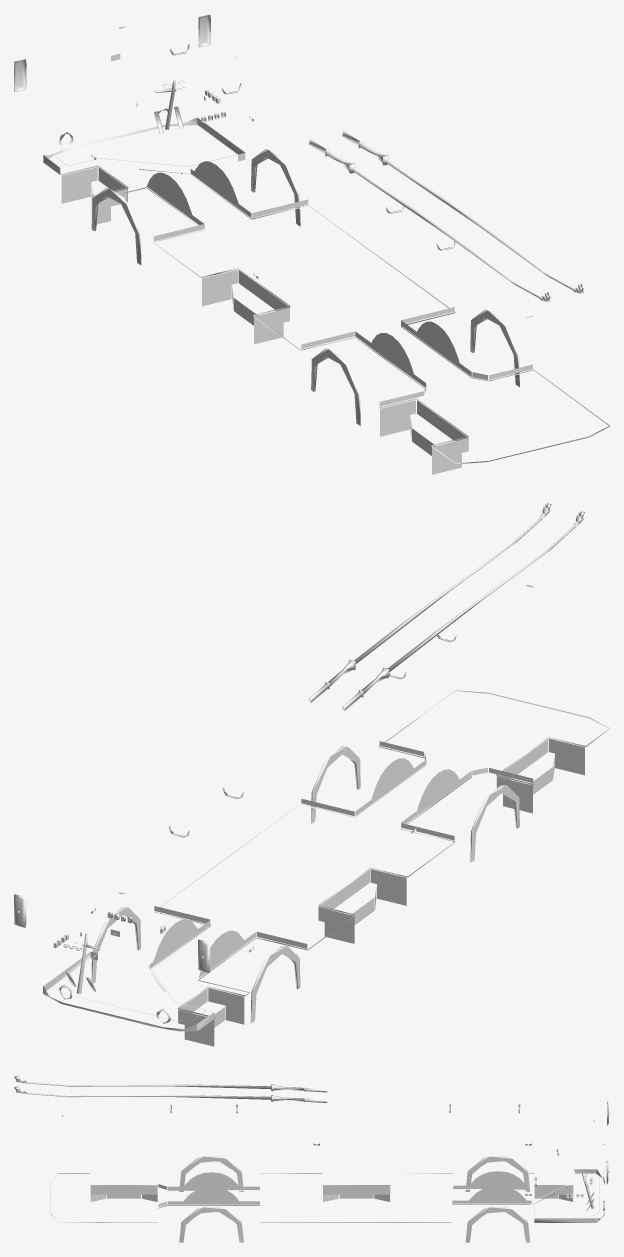
3 renders of one model, top to bottom at view 1: azimuth 30°, elevation 25°; view 2: azimuth 150°, elevation 25°; view 3: azimuth 270°, elevation 25°, orthographic. The views are drawn at different scales.
Bounding box in the file's own units: 2.96 × 3 × 11.89.
1 material, 1 textured.
